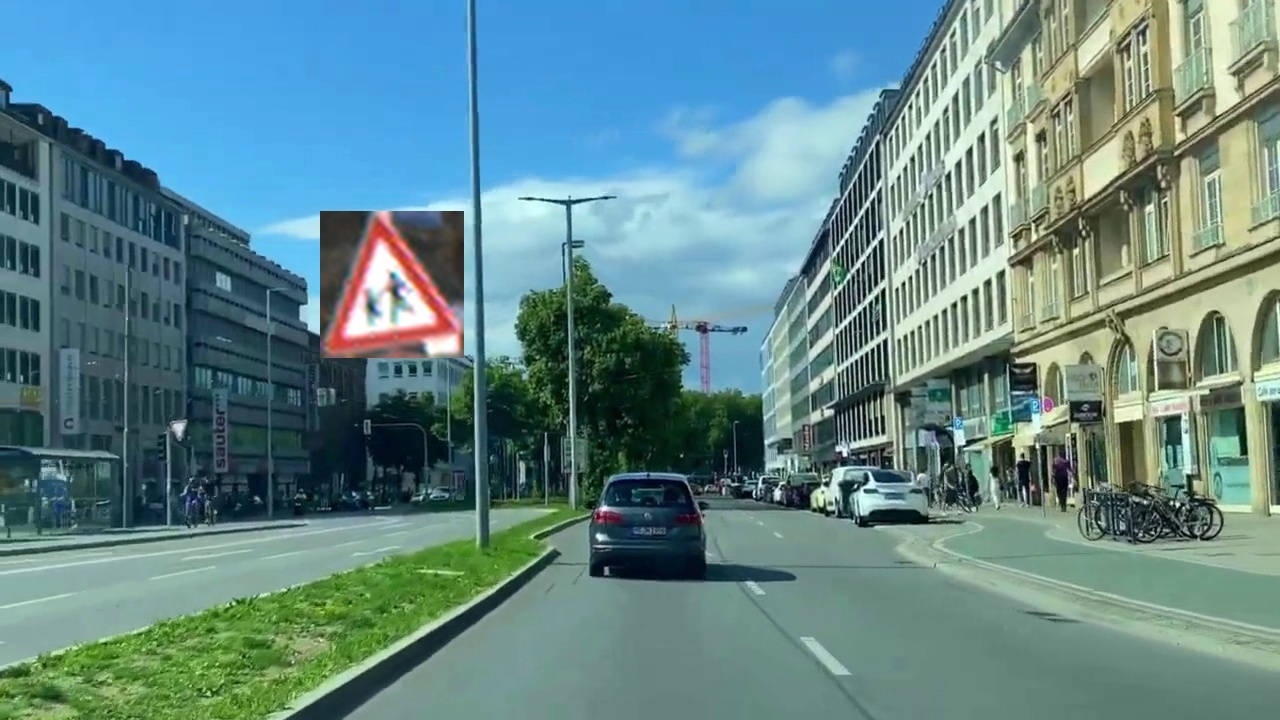Children: (320, 211, 464, 358)
